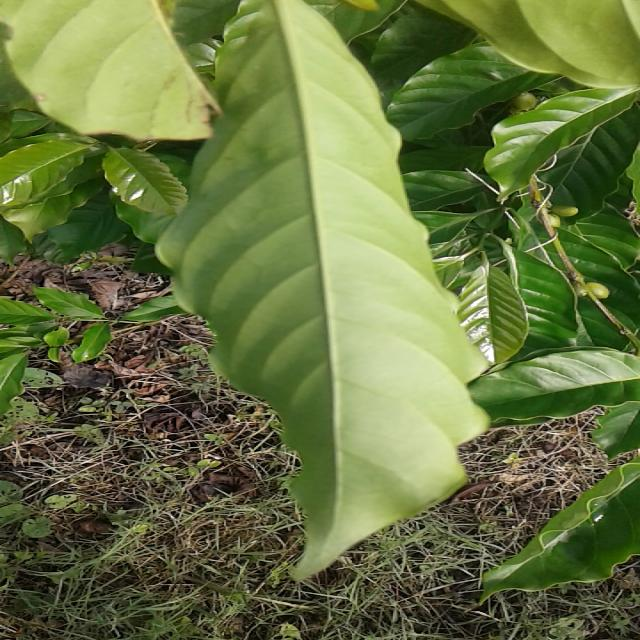Sanas: (154, 0, 492, 585)
